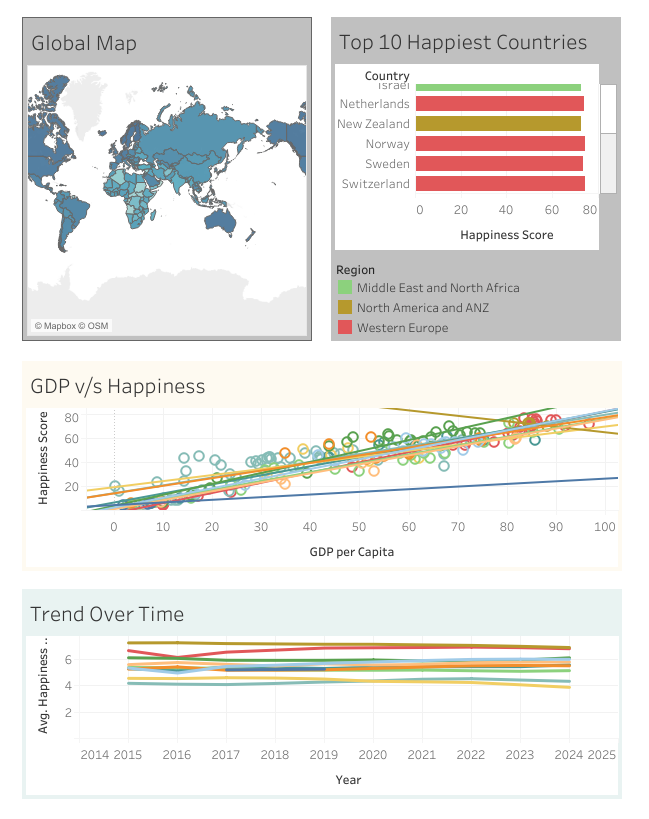

The dashboard page shown, as its layout file describes it:
{"tool":"tableau","page":{"name":"Dashboard 1","canvas":[650,860],"ordinal":0},"visuals":[{"type":"worksheet","title":"Top 10 Happiest Countries","mark":"Automatic","rows":["Country"],"cols":["Happiness_Score"],"box":[331,18,290,254]},{"type":"worksheet","title":"Global Map","mark":"Multipolygon","box":[23,19,288,338]},{"type":"legend","title":"Top 10 Happiest Countries","param":"[federated.1prqt4q0t2pvu31f44b1q16cd84a].[none:Region:nk]","box":[331,272,290,86]},{"type":"worksheet","title":"GDP v/s Happiness","mark":"Automatic","rows":["Happiness_Score"],"cols":["GDP_per_Capita"],"box":[22,379,600,220]},{"type":"worksheet","title":"Trend Over Time","mark":"Automatic","rows":["Happiness_Score"],"cols":["Year"],"box":[22,618,600,220]}]}

Visuals, with their boxes on the page's 650x860 design canvas (x1, y1, x2, y2). These are canvas units, not pixel positions in the 649x819 screenshot, which may show the page scaled, cropped or inside an application window:
"Top 10 Happiest Countries" worksheet: x1=331, y1=18, x2=621, y2=272
"Global Map" worksheet (Multipolygon marks): x1=23, y1=19, x2=311, y2=357
"Top 10 Happiest Countries" legend: x1=331, y1=272, x2=621, y2=358
"GDP v/s Happiness" worksheet: x1=22, y1=379, x2=622, y2=599
"Trend Over Time" worksheet: x1=22, y1=618, x2=622, y2=838
